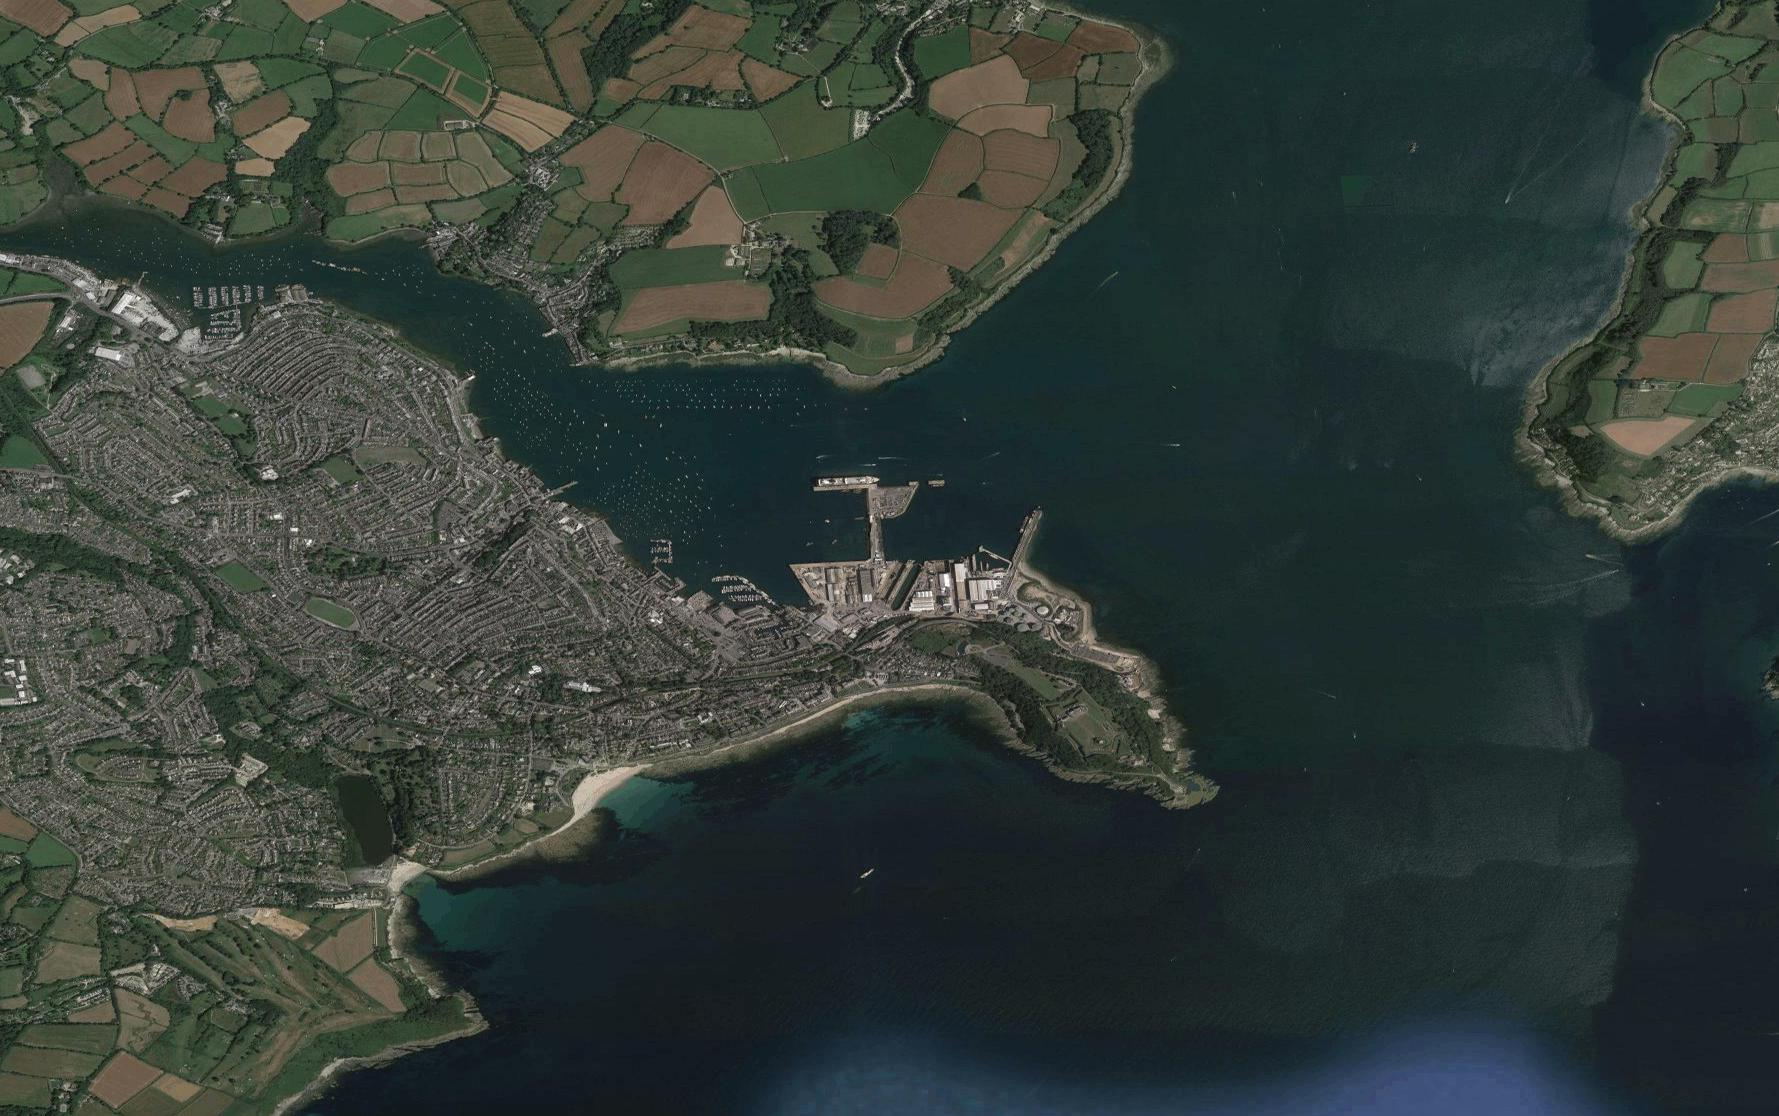harbor: (776, 462, 1075, 636)
